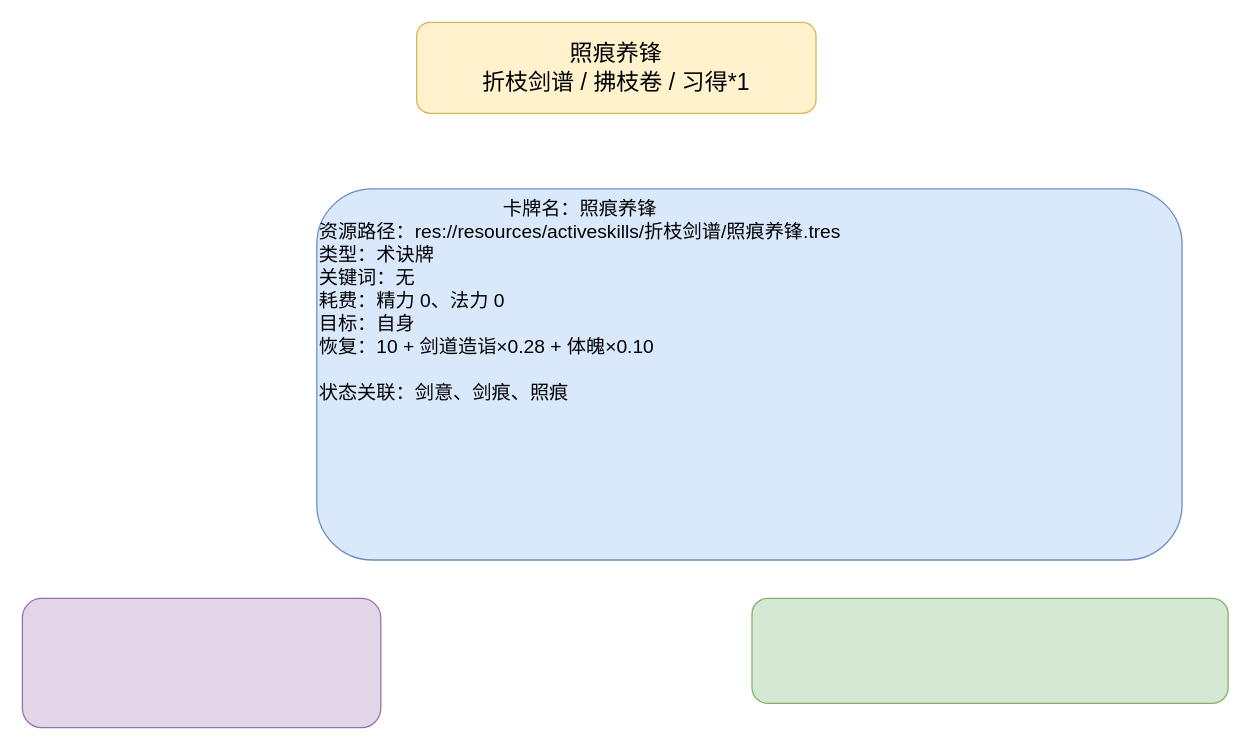
Some shapes in this 1251 by 750 pixel diagram are drawn without their labels. Each missing label, with the box of its shape:
场上存在带剑痕敌人 获得1层剑意 本次自身行动期间下一张折枝攻击额外施加1层剑痕 场上无剑痕：额外恢复4点精力: (21, 597, 381, 728)
定位：根据场上剑痕补充剑意和精力 场上有带剑痕的敌人时，获得剑意并强化下一次折枝攻击 场上没有剑痕时，额外恢复精力: (751, 597, 1228, 703)
